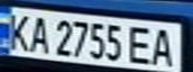2: (51, 16, 72, 56)
5: (103, 20, 130, 62), (87, 19, 109, 61)
7: (69, 17, 90, 59)
A: (145, 25, 184, 68), (24, 12, 54, 54)
E: (124, 24, 157, 66)
K: (3, 10, 33, 52)
